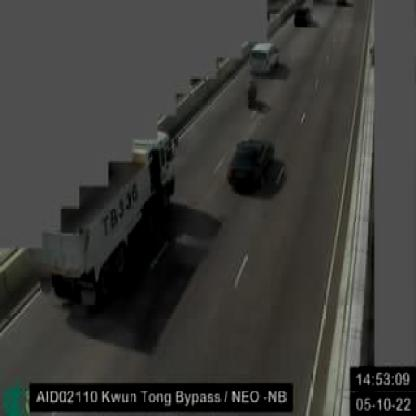Car: (224, 135, 270, 194), (249, 42, 277, 74), (294, 5, 312, 26)
Truck: (37, 126, 176, 314)
